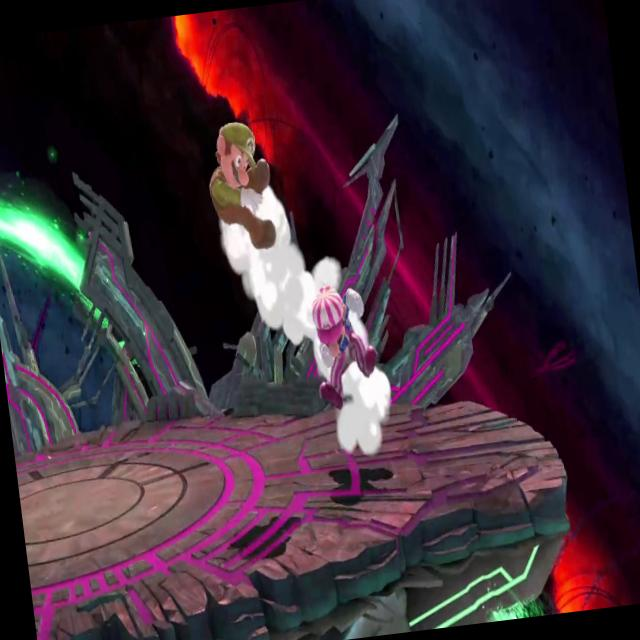Mario: (195, 105, 288, 262)
Mario-Grab: (300, 272, 390, 418)
